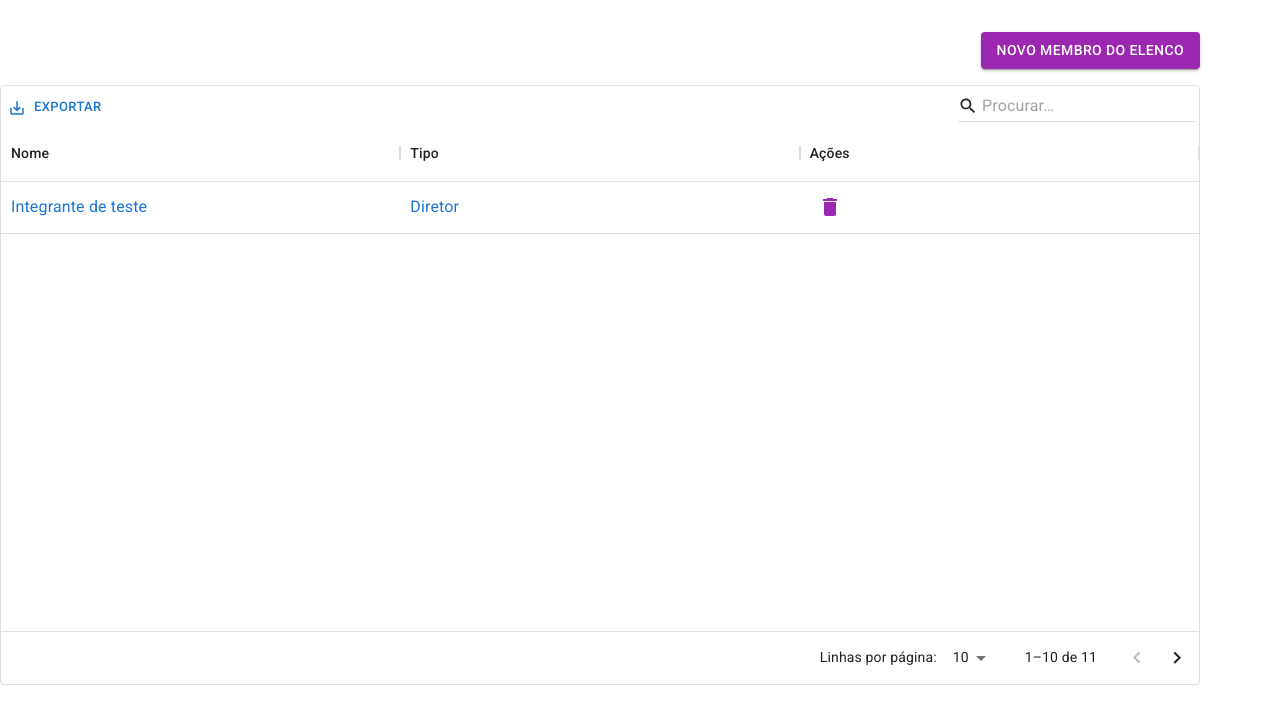
Scenario: Listagem de integrantes do elenco › deve informar quando a exclusão for concluída
Expected: the text "Integrante de teste" is shown, x1=11 y1=195 x2=147 y2=219
Click the button named "delete".
click(830, 207)  # box x1=810 y1=187 x2=850 y2=227
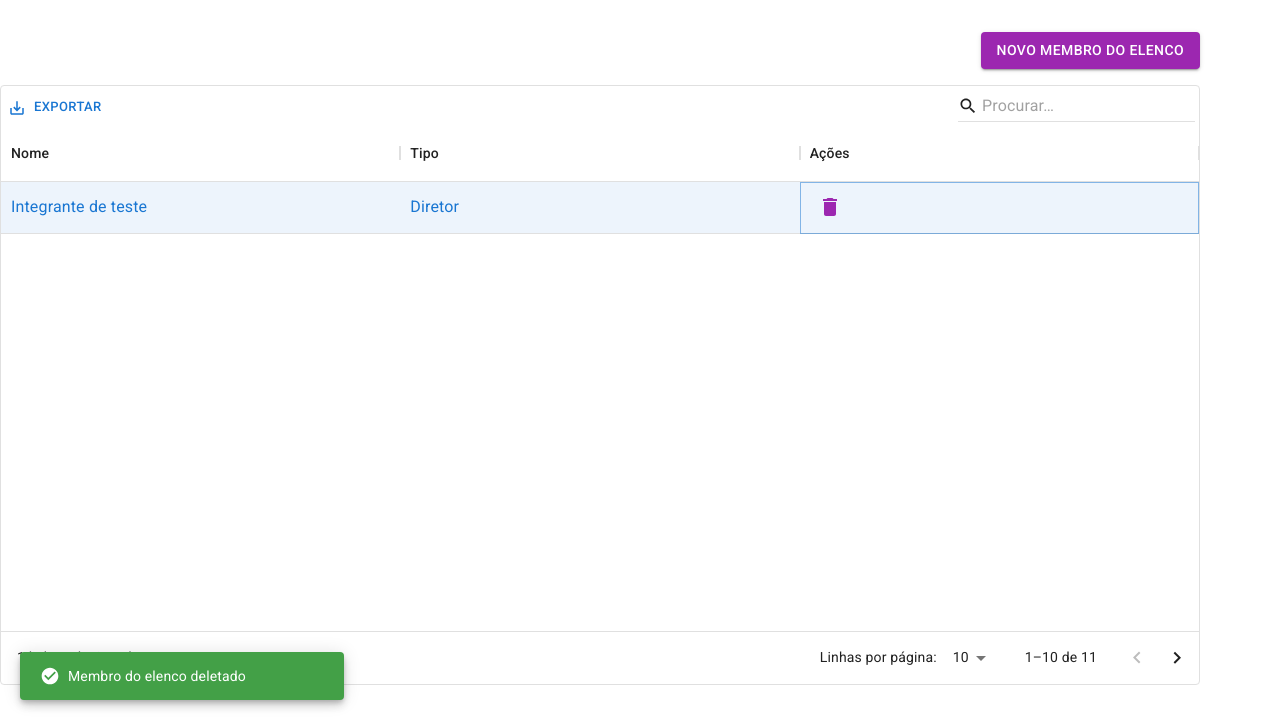
Expected: the text "Membro do elenco deletado" is shown, x1=40 y1=666 x2=246 y2=686
